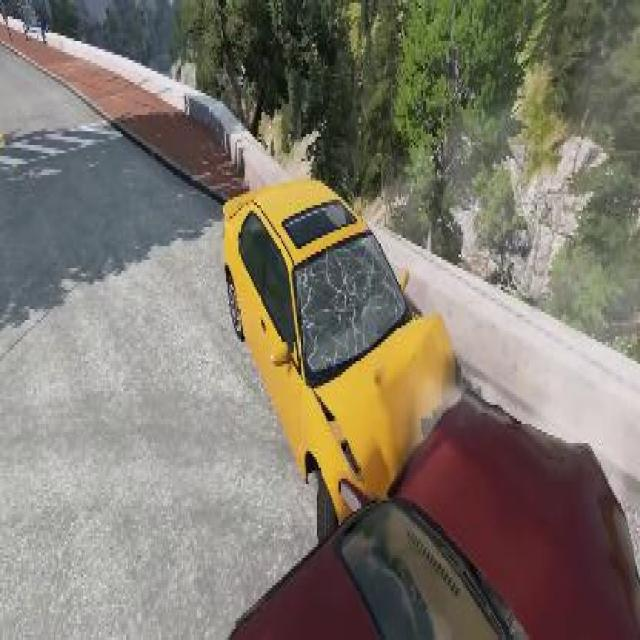accident: (204, 161, 640, 639)
